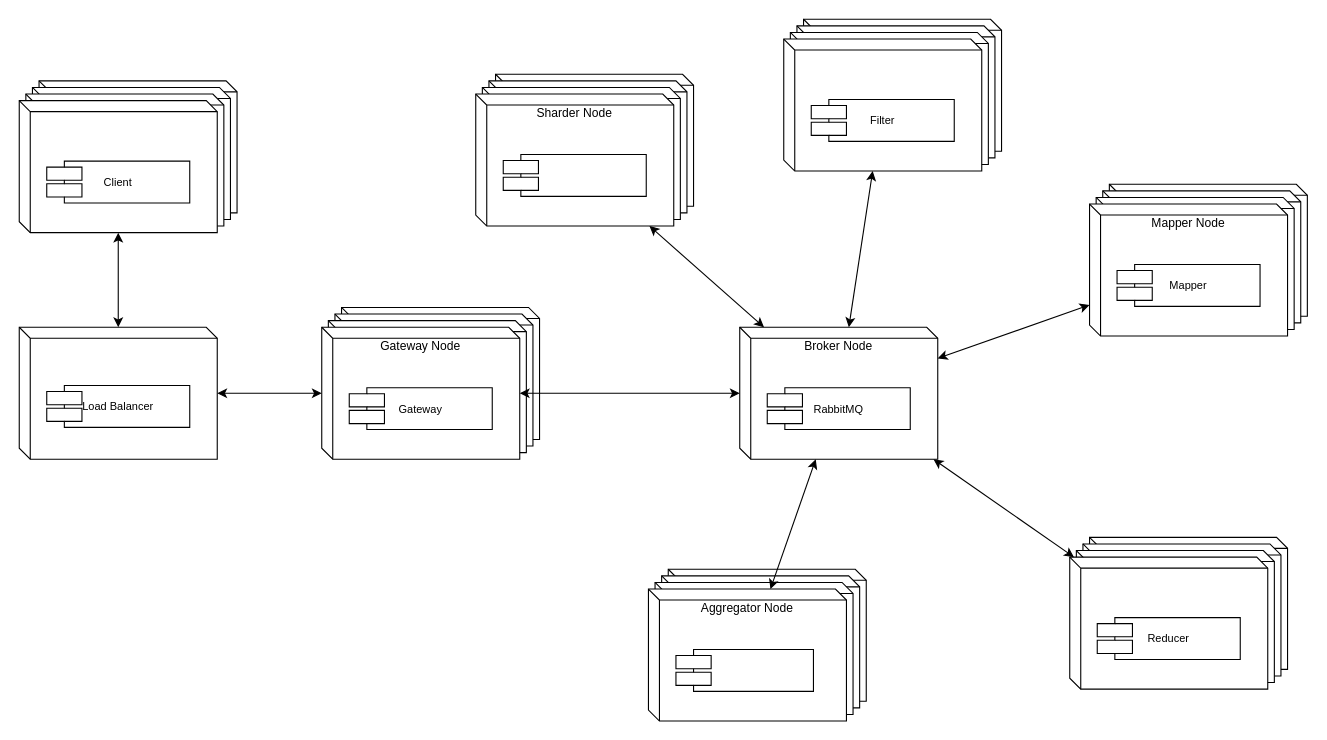
Some shapes in this 1327 by 740 pixel diagram are drawn without their labels. Each missing label, with the box of its shape:
Aggregator: (675, 648, 813, 691)
Client PC: (18, 100, 217, 233)
Filter Node: (783, 38, 982, 171)
Load Balancer Node: (18, 326, 217, 459)
Reducer Node: (1069, 556, 1268, 689)
Sharder: (502, 153, 646, 196)
